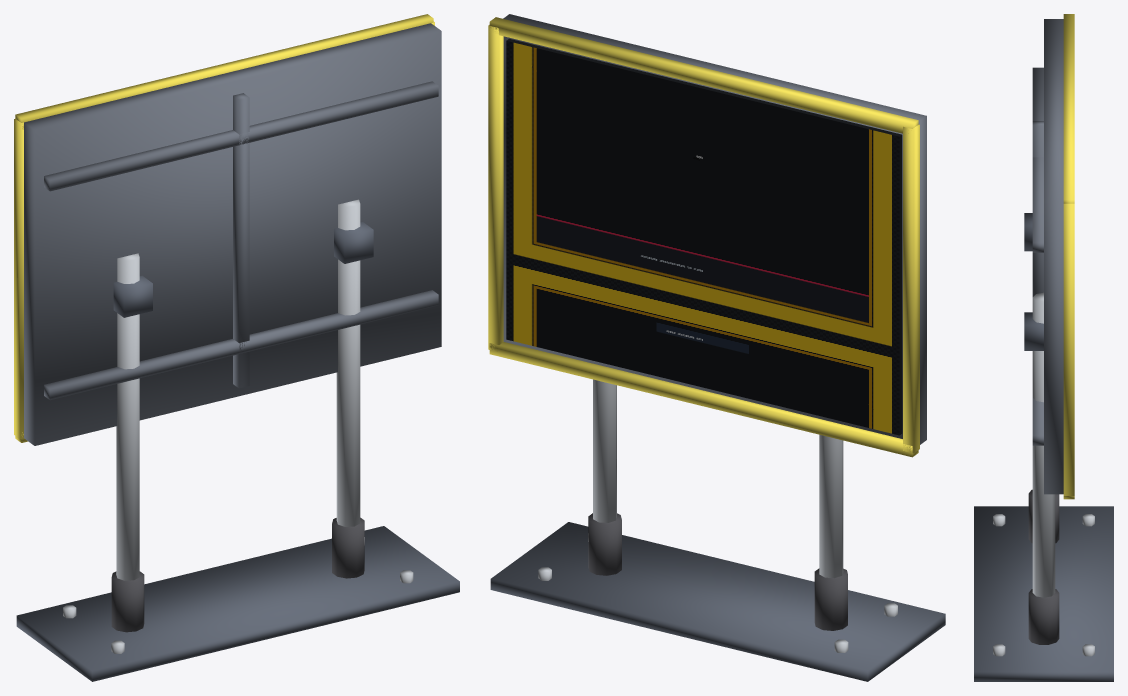
Rendered from photorealistic_brake_marker_200.glb.
3 views of the same model, side by side, from view 1: azimuth 30°, elevation 25°; view 2: azimuth 150°, elevation 25°; view 3: azimuth 270°, elevation 25° (orthographic). The views are drawn at different scales.
Visible parts, largest first — view 1: BoardHousing, Baseplate, RibHorizTop, SupportPost_0.42, RibHorizBot, SupportPost_-0.42, RibVertCenter, BezelTop, BezelLeft, BreakawayBoot_-0.42, BreakawayBoot_0.42, MountClamp_-0.42 (+1 smaller); view 2: DisplayFace, Baseplate, BoardHousing, BezelTop, BezelBot, BezelLeft, BezelRight, SupportPost_-0.42, SupportPost_0.42, BreakawayBoot_-0.42, BreakawayBoot_0.42; view 3: Baseplate, BoardHousing, SupportPost_0.42, BezelRight, BezelTop, RibHorizTop, BreakawayBoot_0.42, RibVertCenter, MountClamp_0.42, RibHorizBot, BreakawayBoot_-0.42, MountClamp_-0.42.
Part boxes in pixels (bbox=[...]): BoardHousing: bbox=[24, 23, 441, 445]; Baseplate: bbox=[16, 526, 459, 681]; RibHorizTop: bbox=[44, 81, 438, 191]; SupportPost_0.42: bbox=[336, 199, 360, 526]; RibHorizBot: bbox=[44, 290, 438, 400]; SupportPost_-0.42: bbox=[116, 253, 139, 580]; RibVertCenter: bbox=[233, 93, 249, 388]; BezelTop: bbox=[15, 14, 433, 129]; BezelLeft: bbox=[14, 118, 23, 439]; BreakawayBoot_-0.42: bbox=[111, 571, 144, 632]; BreakawayBoot_0.42: bbox=[332, 517, 364, 578]; MountClamp_-0.42: bbox=[113, 275, 152, 317]; DisplayFace: bbox=[506, 38, 902, 435]; Baseplate: bbox=[490, 522, 945, 681]; BoardHousing: bbox=[503, 14, 926, 444]; BezelTop: bbox=[489, 17, 918, 133]; BezelBot: bbox=[489, 342, 918, 457]; BezelLeft: bbox=[903, 124, 919, 453]; BezelRight: bbox=[488, 25, 503, 351]; SupportPost_-0.42: bbox=[819, 434, 843, 578]; SupportPost_0.42: bbox=[593, 379, 616, 522]; BreakawayBoot_-0.42: bbox=[814, 568, 847, 630]; BreakawayBoot_0.42: bbox=[588, 513, 621, 575]; Baseplate: bbox=[974, 506, 1113, 681]; BoardHousing: bbox=[1044, 19, 1063, 494]; SupportPost_0.42: bbox=[1032, 292, 1055, 597]; BezelRight: bbox=[1063, 203, 1074, 495]; BezelTop: bbox=[1063, 14, 1074, 203]; RibHorizTop: bbox=[1032, 67, 1043, 252]; BreakawayBoot_0.42: bbox=[1028, 589, 1059, 644]; RibVertCenter: bbox=[1032, 121, 1043, 296]; MountClamp_0.42: bbox=[1024, 312, 1043, 350]; RibHorizBot: bbox=[1032, 398, 1043, 445]; BreakawayBoot_-0.42: bbox=[1028, 489, 1059, 543]; MountClamp_-0.42: bbox=[1024, 213, 1032, 251].
Size of the model in its own units: 1.58 by 1.94 by 0.5.
Materials: 6 (1 with a texture image).
